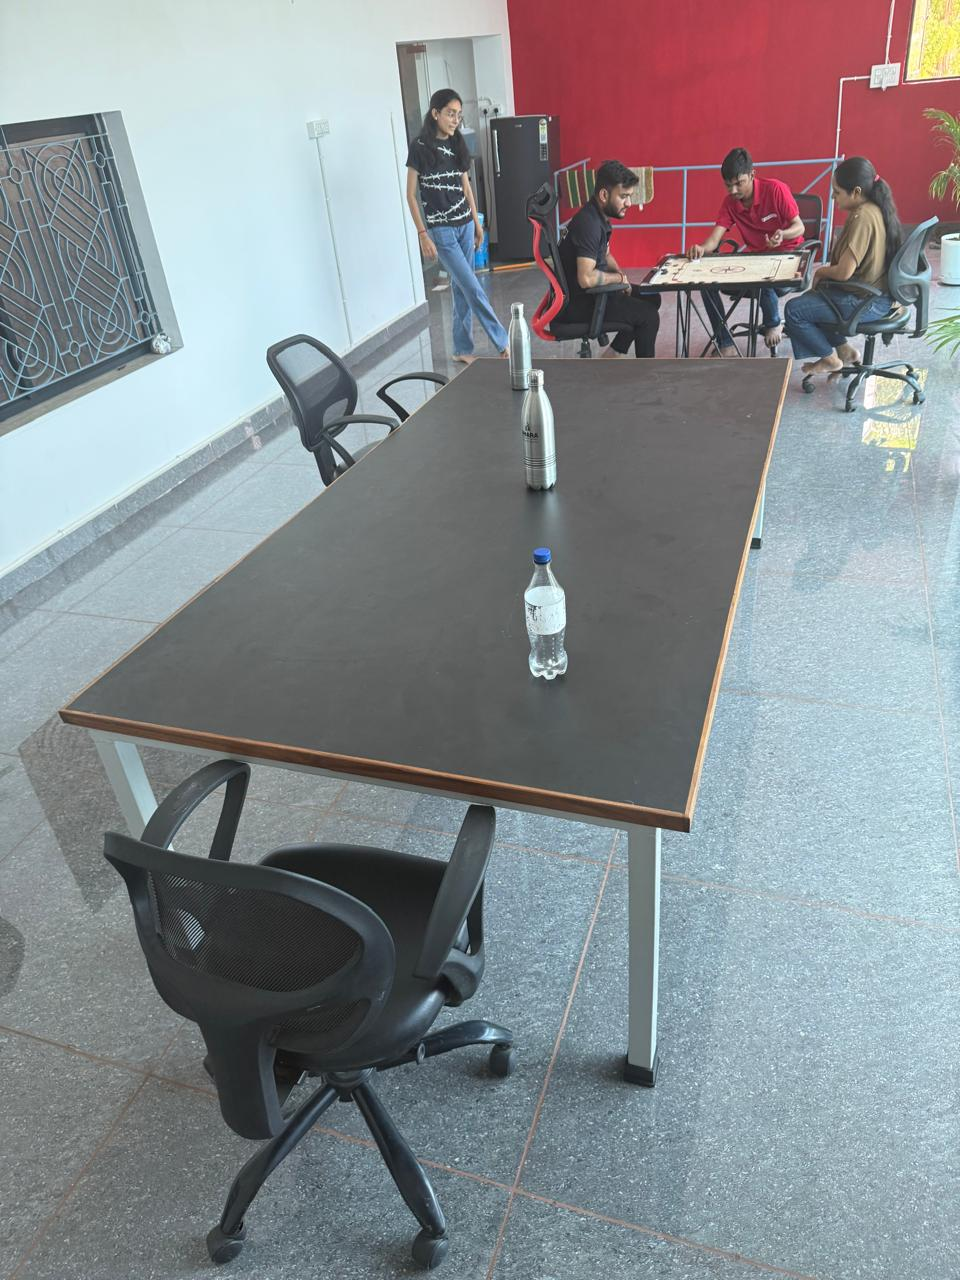bottle_on_table: (491, 533, 590, 680), (518, 358, 580, 495), (490, 295, 564, 387)
